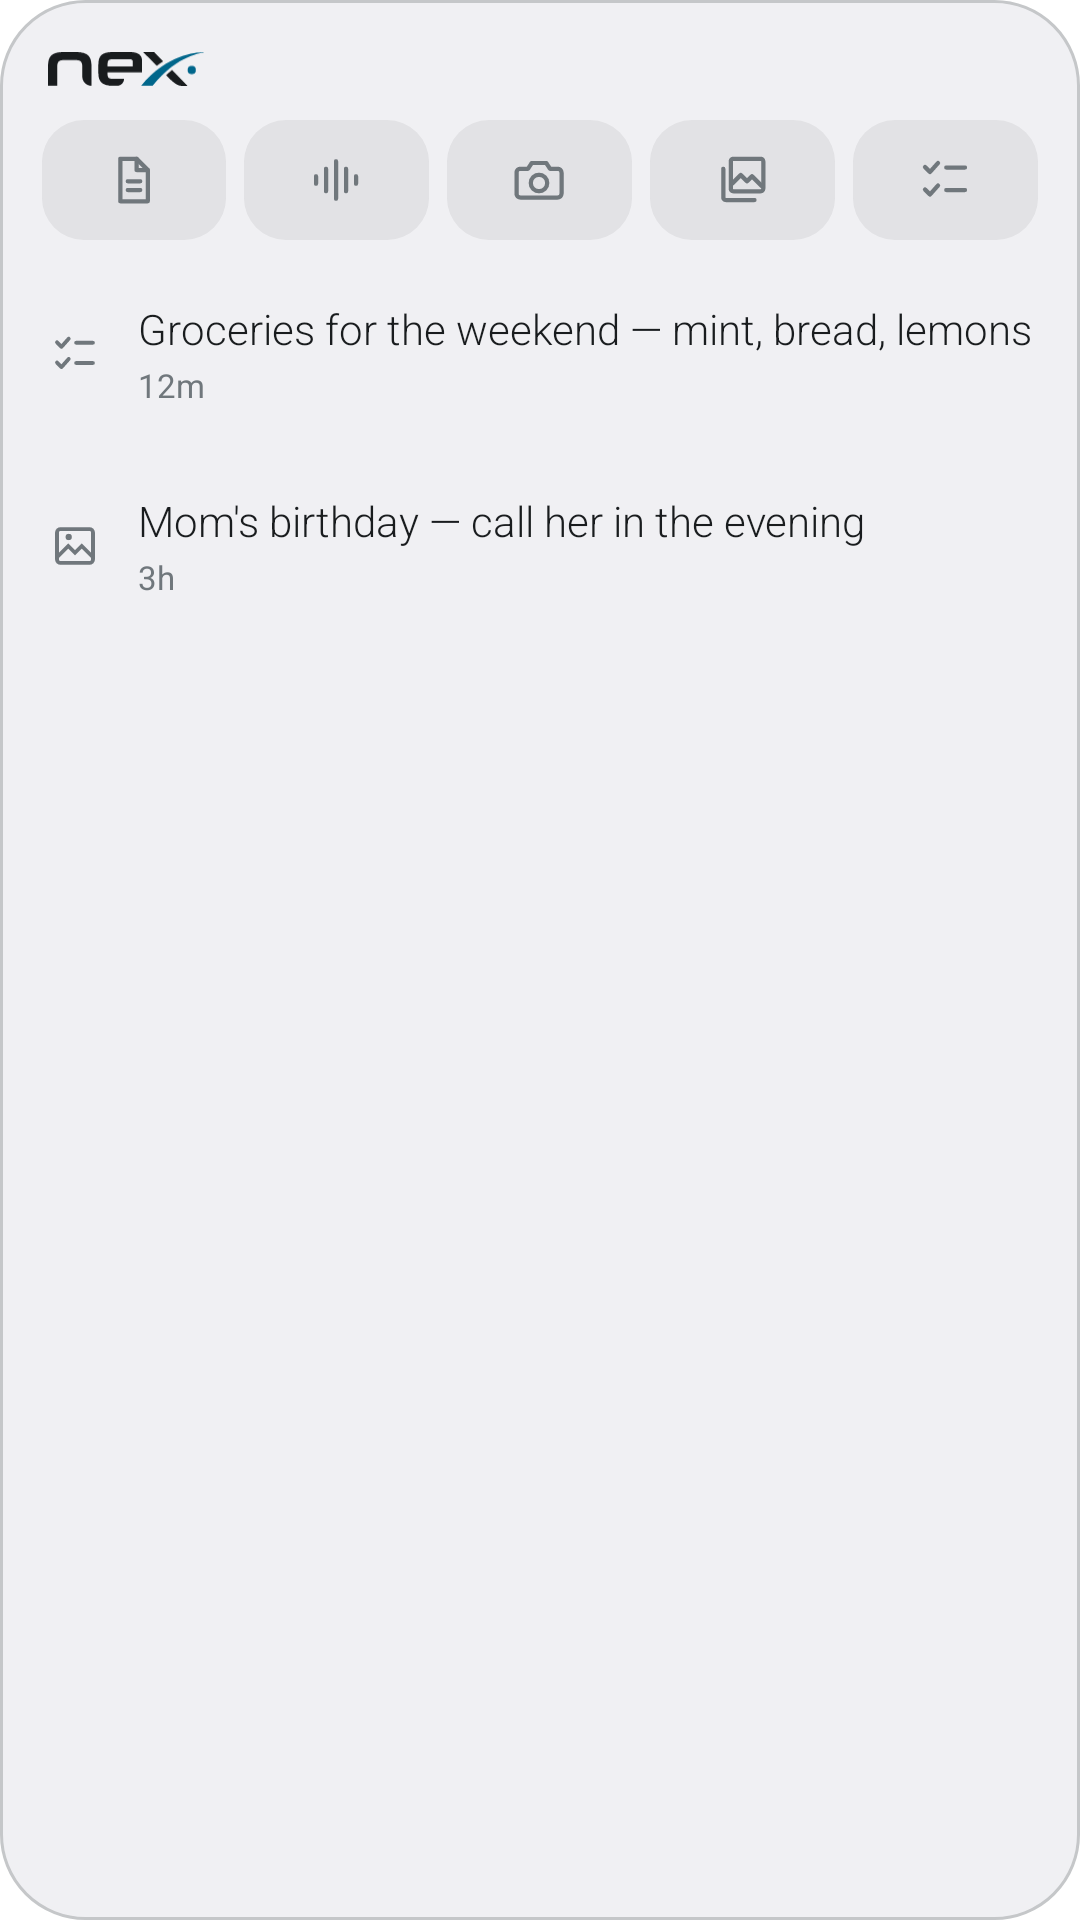

Icons on this 1080*1920 Android screen, each with the point to tap as [x,y]:
nex widget camera: [539,180]
nex widget gallery: [743,179]
nex widget type checklist: [945,179], [75,352]
nex widget type text: [134,180]
nex widget type voice: [336,180]
